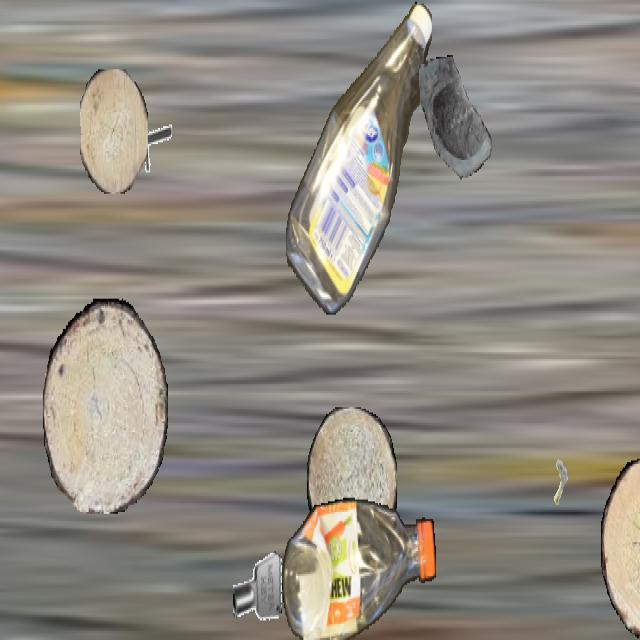glass: (419, 55, 501, 201)
metal: (233, 544, 283, 633), (538, 454, 578, 524), (134, 108, 172, 176)
plastic: (286, 2, 432, 314), (282, 496, 436, 638)
wood: (43, 299, 167, 512), (307, 407, 397, 557), (80, 69, 148, 194), (601, 457, 640, 638)
